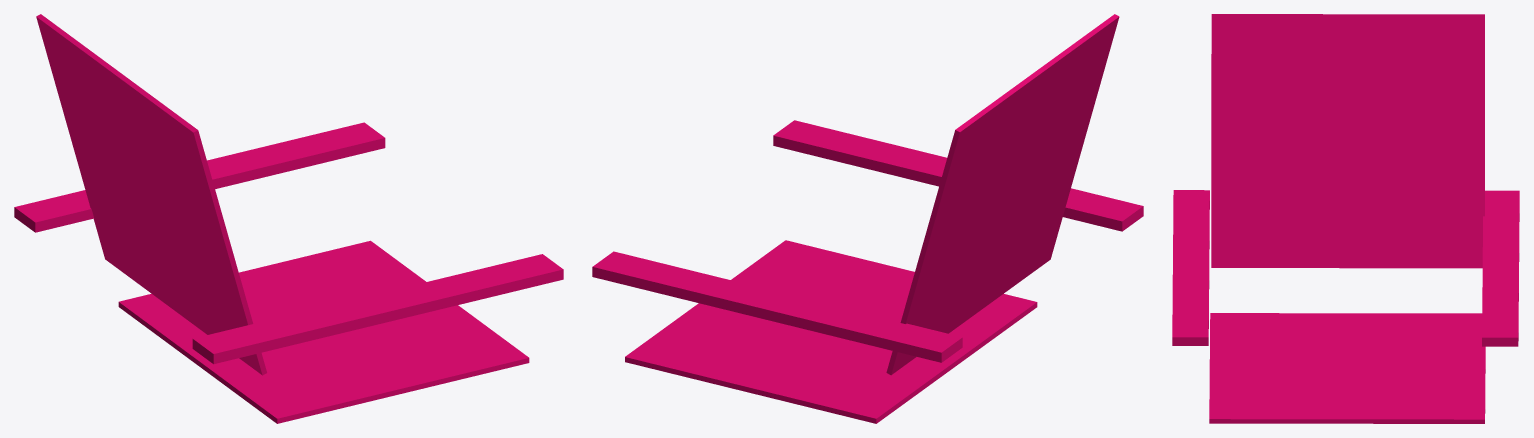
File: Chair_01_Lod1.fbx
The picture shows the model from 3 angles, left to right: view 1: azimuth 30°, elevation 25°; view 2: azimuth 150°, elevation 25°; view 3: azimuth 270°, elevation 25°; orthographic projection. The views are drawn at different scales.
Visible parts, largest first — view 1: Chair_01_Lod1; view 2: Chair_01_Lod1; view 3: Chair_01_Lod1.
Boxes of the visible parts, x1,y1,x2,y2 form: Chair_01_Lod1: [14, 14, 563, 423]; Chair_01_Lod1: [592, 14, 1143, 423]; Chair_01_Lod1: [1172, 14, 1519, 423].
Size of the model in its own units: 57.14 by 48.66 by 56.79.
